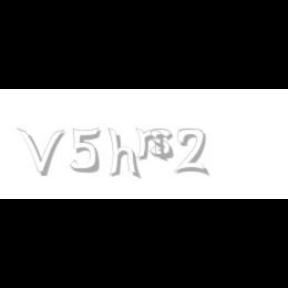2: (174, 128, 208, 176)
5: (70, 128, 101, 174)
V: (17, 128, 65, 176)
h: (108, 128, 142, 180)
n: (135, 128, 169, 162)
s: (150, 128, 178, 160)
